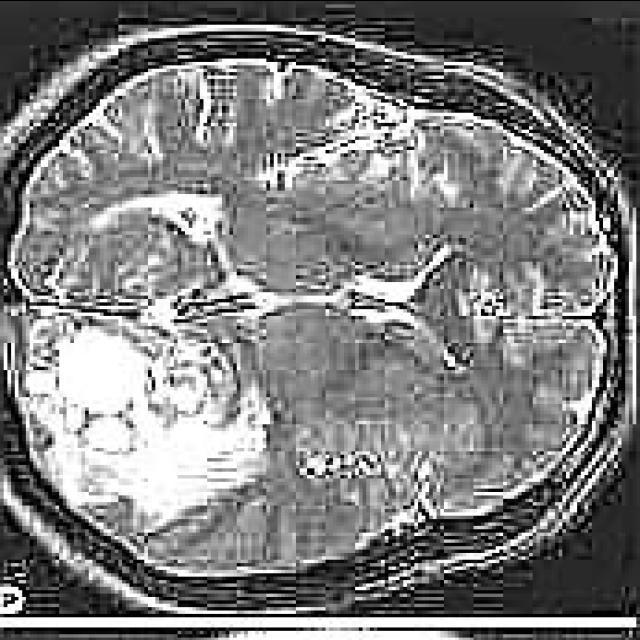tumor: (15, 308, 277, 535)
